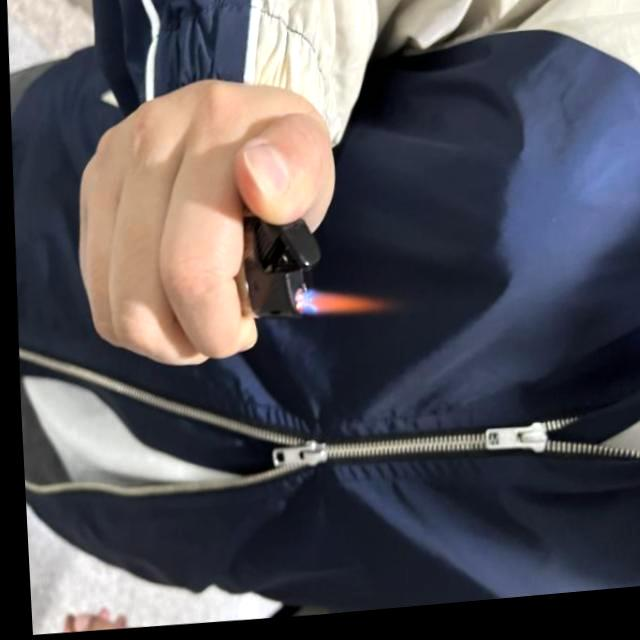fire: (297, 287, 379, 325)
